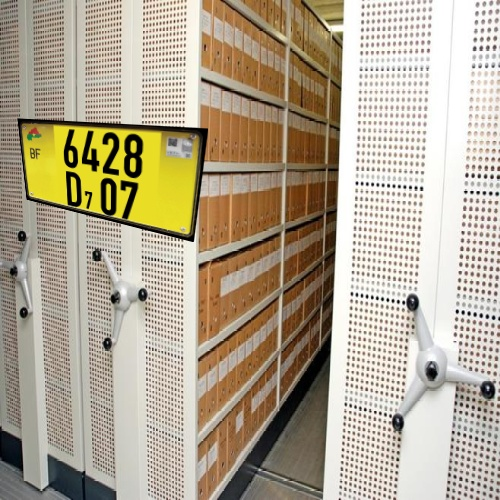plate: (8, 97, 228, 275)
